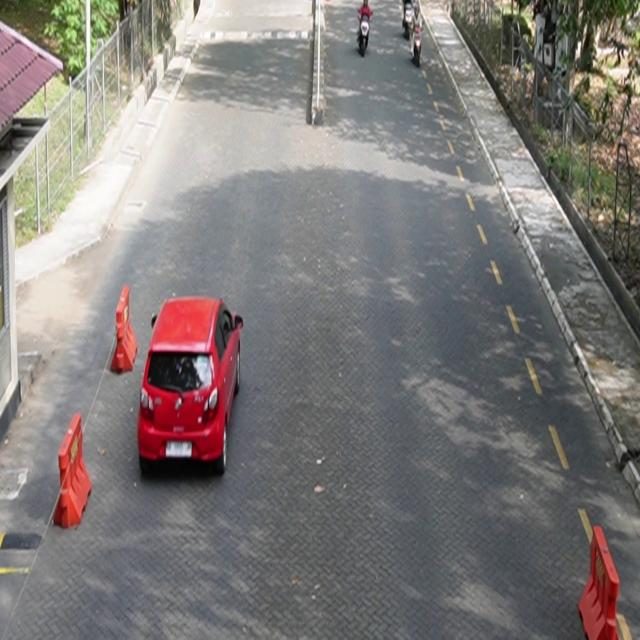car: (138, 296, 244, 476)
